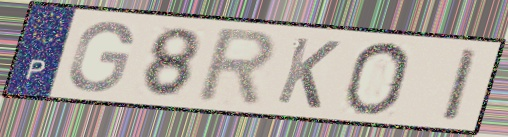8: (141, 26, 205, 99)
G: (65, 18, 137, 94)
I: (440, 45, 481, 124)
K: (272, 34, 344, 112)
O: (339, 40, 413, 118)
R: (191, 26, 279, 110)
